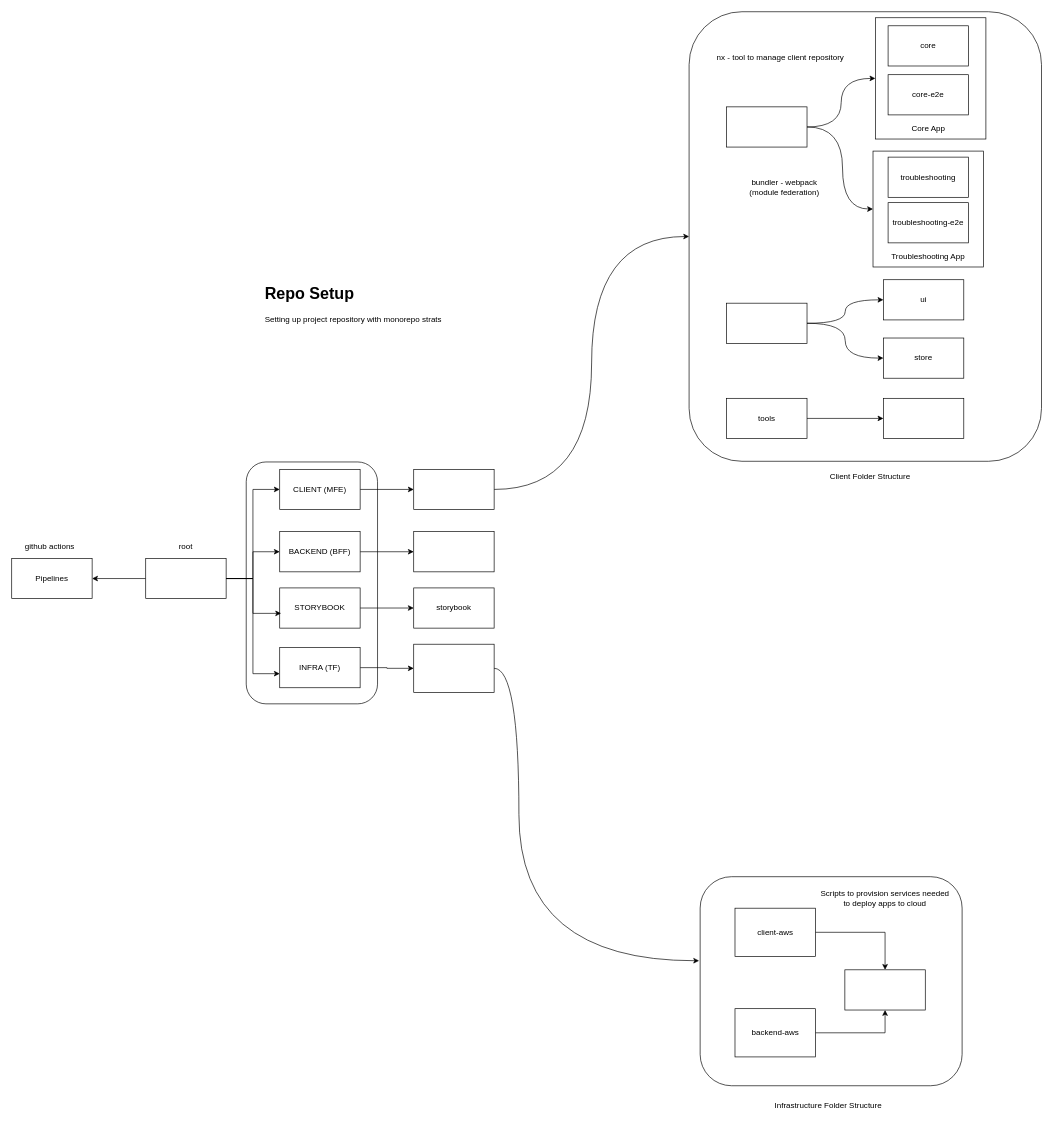
The diagram is 1053 pixels wide and 1127 high, and some of its shapes have lost their labels. Here are the shapes that lost their labels. From the top down, the box of each, then its label:
(726, 106, 807, 147): apps
(726, 303, 807, 343): libs
(883, 398, 964, 439): utilities scripts eg; generate new app/lib, db scripts etc
(413, 469, 494, 510): client
(413, 531, 494, 572): backend
(145, 558, 226, 599): repo
(413, 644, 494, 692): infrastructure
(844, 969, 925, 1010): module-based folder structure
